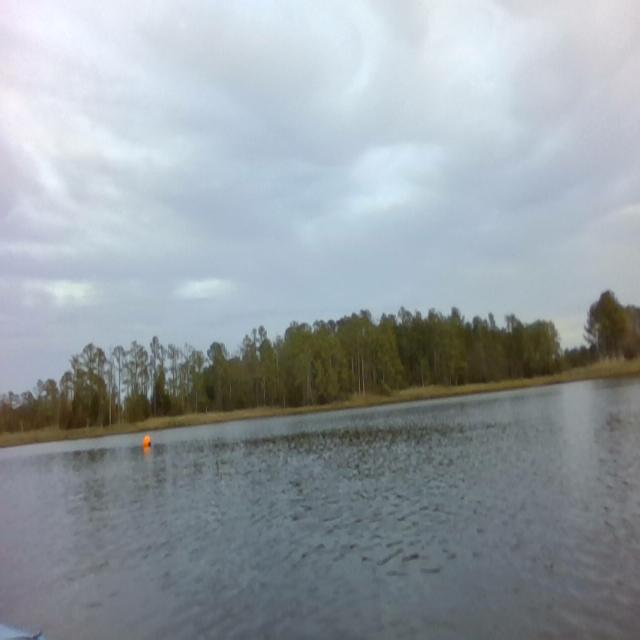Buoy: (142, 433, 153, 449)
